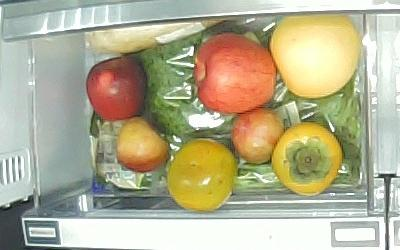apple: (195, 33, 277, 114), (86, 57, 149, 122)
grapefruit: (269, 14, 360, 98)
persimmon: (271, 122, 343, 196), (166, 138, 237, 212)
prune: (116, 117, 171, 173), (232, 108, 285, 164)
